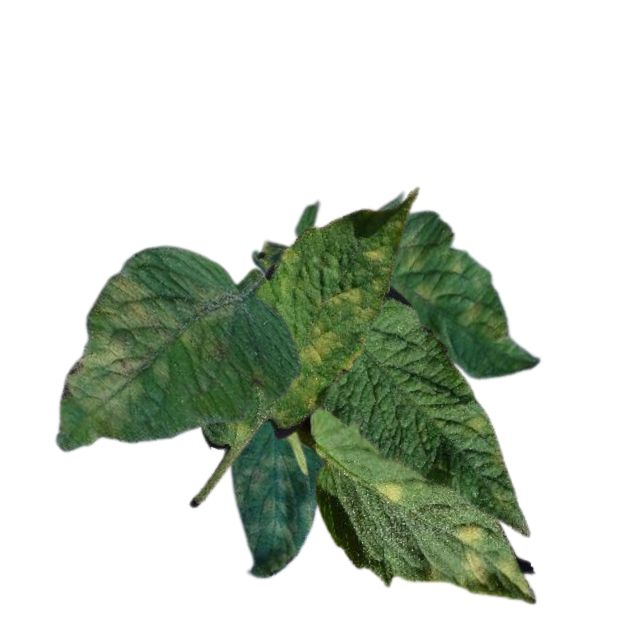Leaf_Mold: (66, 272, 236, 445), (400, 225, 514, 350), (227, 455, 323, 580), (451, 524, 534, 603), (298, 322, 365, 373), (320, 287, 378, 323), (371, 475, 406, 506), (459, 405, 489, 440), (358, 243, 391, 267)
